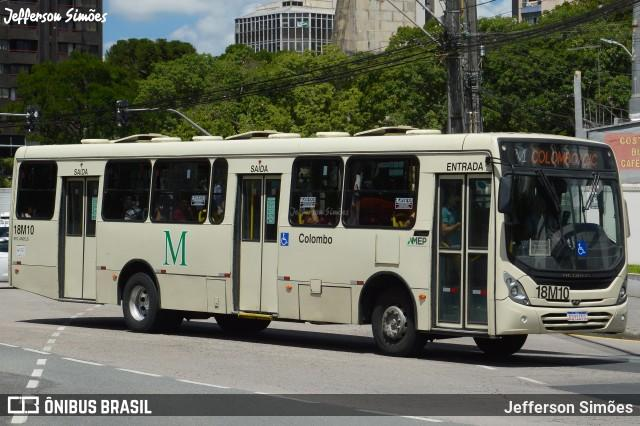COLOMBO CIC: (528, 146, 601, 171)
